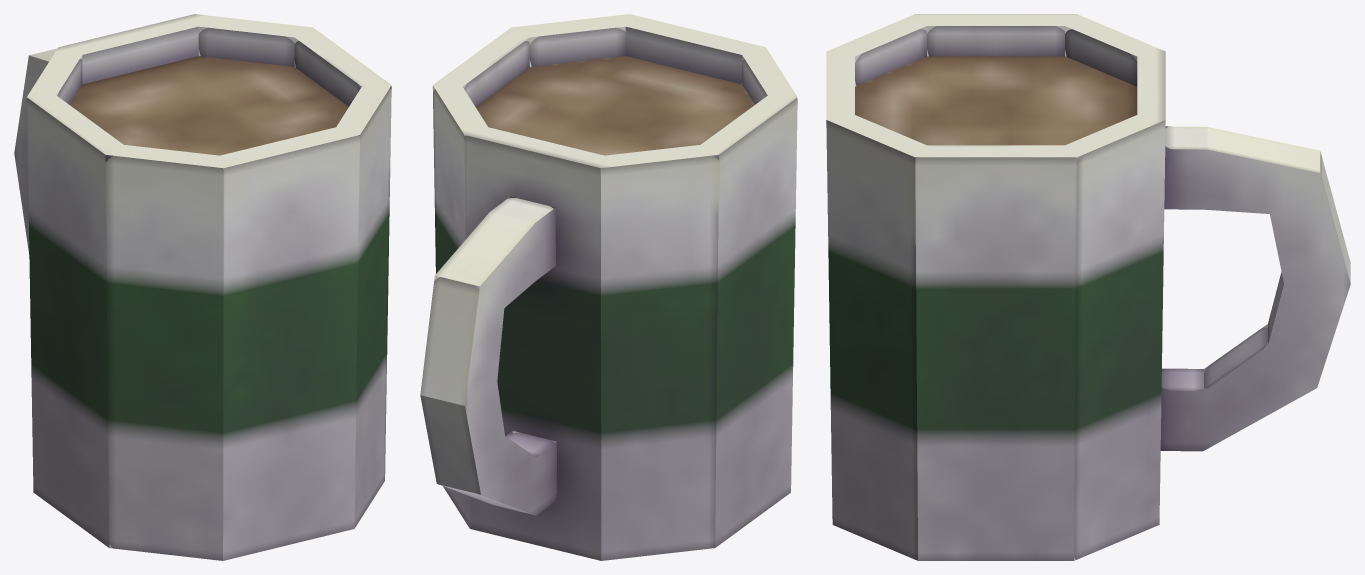
Rendered from CoffeeMug.obj.
3 views of the same model, side by side, from view 1: azimuth 30°, elevation 25°; view 2: azimuth 150°, elevation 25°; view 3: azimuth 270°, elevation 25° (orthographic). The views are drawn at different scales.
Parts seen in each view (by area): view 1: Mug; view 2: Mug; view 3: Mug.
Boxes of the visible parts, x1=… form: Mug: x1=14, y1=14, x2=391, y2=560; Mug: x1=420, y1=14, x2=797, y2=560; Mug: x1=826, y1=14, x2=1350, y2=560.
Size of the model in its own units: 0.272 by 0.3593 by 0.4202.
1 material, 1 textured.
